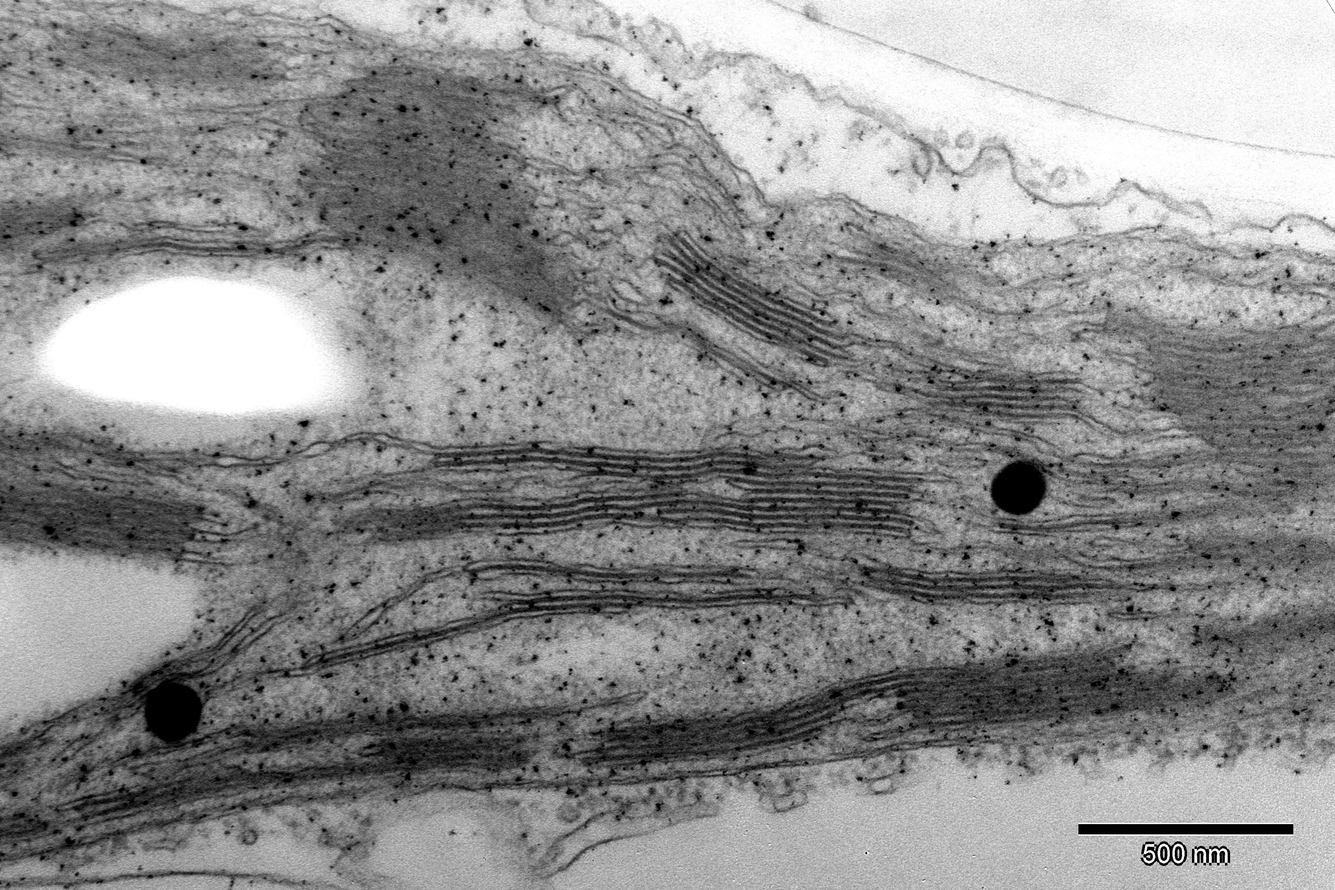granum: (284, 42, 578, 334), (331, 441, 917, 544), (1096, 295, 1335, 521), (895, 637, 1242, 739), (592, 662, 900, 770), (650, 217, 858, 376), (45, 7, 281, 91), (848, 548, 1130, 616), (0, 479, 209, 568), (861, 350, 1087, 429), (56, 760, 260, 834), (429, 435, 719, 487), (0, 414, 186, 485), (821, 220, 961, 309), (667, 316, 806, 404), (344, 731, 532, 783), (1187, 598, 1335, 656), (1149, 532, 1335, 575), (0, 186, 88, 255), (497, 586, 634, 625), (853, 420, 915, 462), (897, 405, 949, 451)
